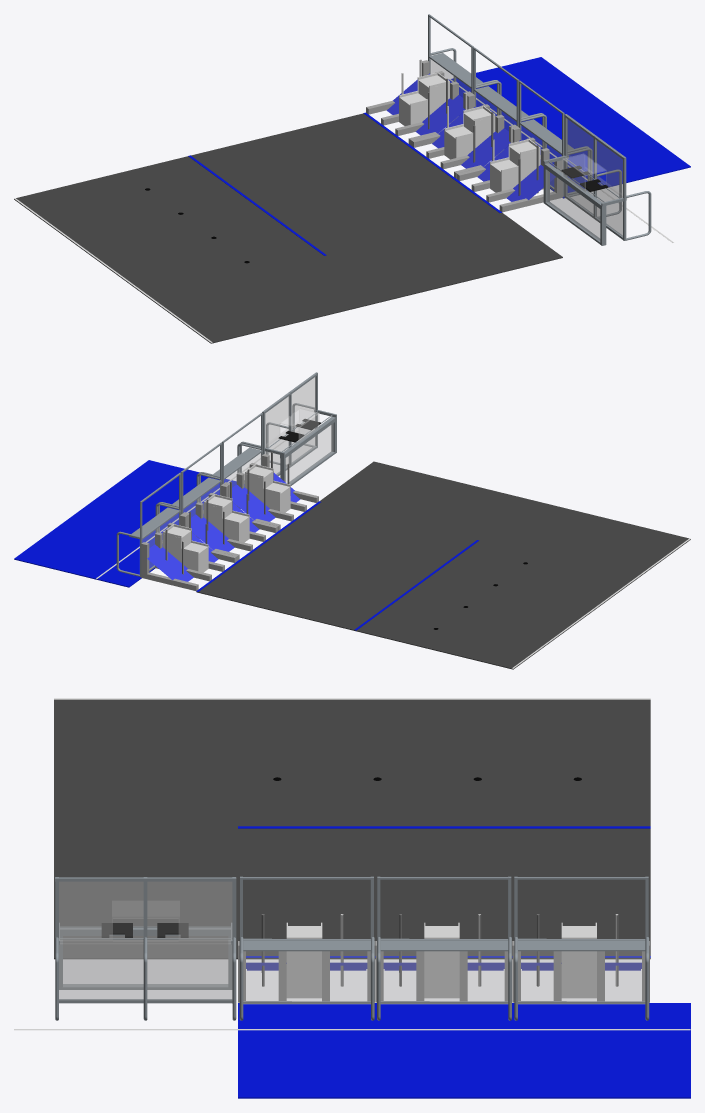
File: arena (Só um pedaço).fbx
3 renders of one model, top to bottom at view 1: azimuth 30°, elevation 25°; view 2: azimuth 150°, elevation 25°; view 3: azimuth 270°, elevation 25°, orthographic. The views are drawn at different scales.
Parts seen in each view (by area): view 1: Cube, Cube.001, plataforna002..004, Grids.002, Grids, Grids.001, plataforna002..002, plataforna002..001, plataforna002.; view 2: Cube, Cube.001, plataforna002..004, Grids, Grids.002, Grids.001, plataforna002., plataforna002..001, plataforna002..002; view 3: Cube, Cube.001, plataforna002..004, plataforna002., plataforna002..002, plataforna002..001, Grids.002, Grids, Grids.001, Marcação central.003, Marcação central.002, Marcação central.
Boxes of the visible parts, box(x1,y1,x2,y2) form: Cube: box(14, 113, 562, 343); Cube.001: box(448, 57, 690, 198); plataforna002..004: box(543, 114, 651, 245); Grids.002: box(457, 126, 562, 212); Grids: box(366, 59, 471, 145); Grids.001: box(411, 93, 517, 178); plataforna002..002: box(518, 80, 589, 196); plataforna002..001: box(473, 47, 544, 156); plataforna002.: box(428, 14, 498, 115); Cube: box(196, 461, 690, 669); Cube.001: box(14, 460, 244, 587); plataforna002..004: box(240, 372, 336, 485); Grids: box(141, 512, 237, 590); Grids.002: box(223, 452, 318, 530); Grids.001: box(182, 482, 277, 560); plataforna002.: box(116, 472, 181, 577); plataforna002..001: box(158, 442, 222, 541); plataforna002..002: box(199, 412, 262, 511); Cube: box(54, 699, 650, 959); Cube.001: box(238, 1003, 690, 1098); plataforna002..004: box(55, 877, 236, 1020); plataforna002.: box(514, 876, 649, 1020); plataforna002..002: box(239, 876, 374, 1020); plataforna002..001: box(377, 876, 511, 1020); Grids.002: box(238, 914, 375, 1002); Grids: box(513, 914, 649, 1002); Grids.001: box(375, 914, 512, 1002); Marcação central.003: box(14, 1029, 690, 1030); Marcação central.002: box(238, 826, 650, 828); Marcação central: box(54, 698, 650, 699).
Bounding box in the file's own units: 1270 × 190 × 910.
